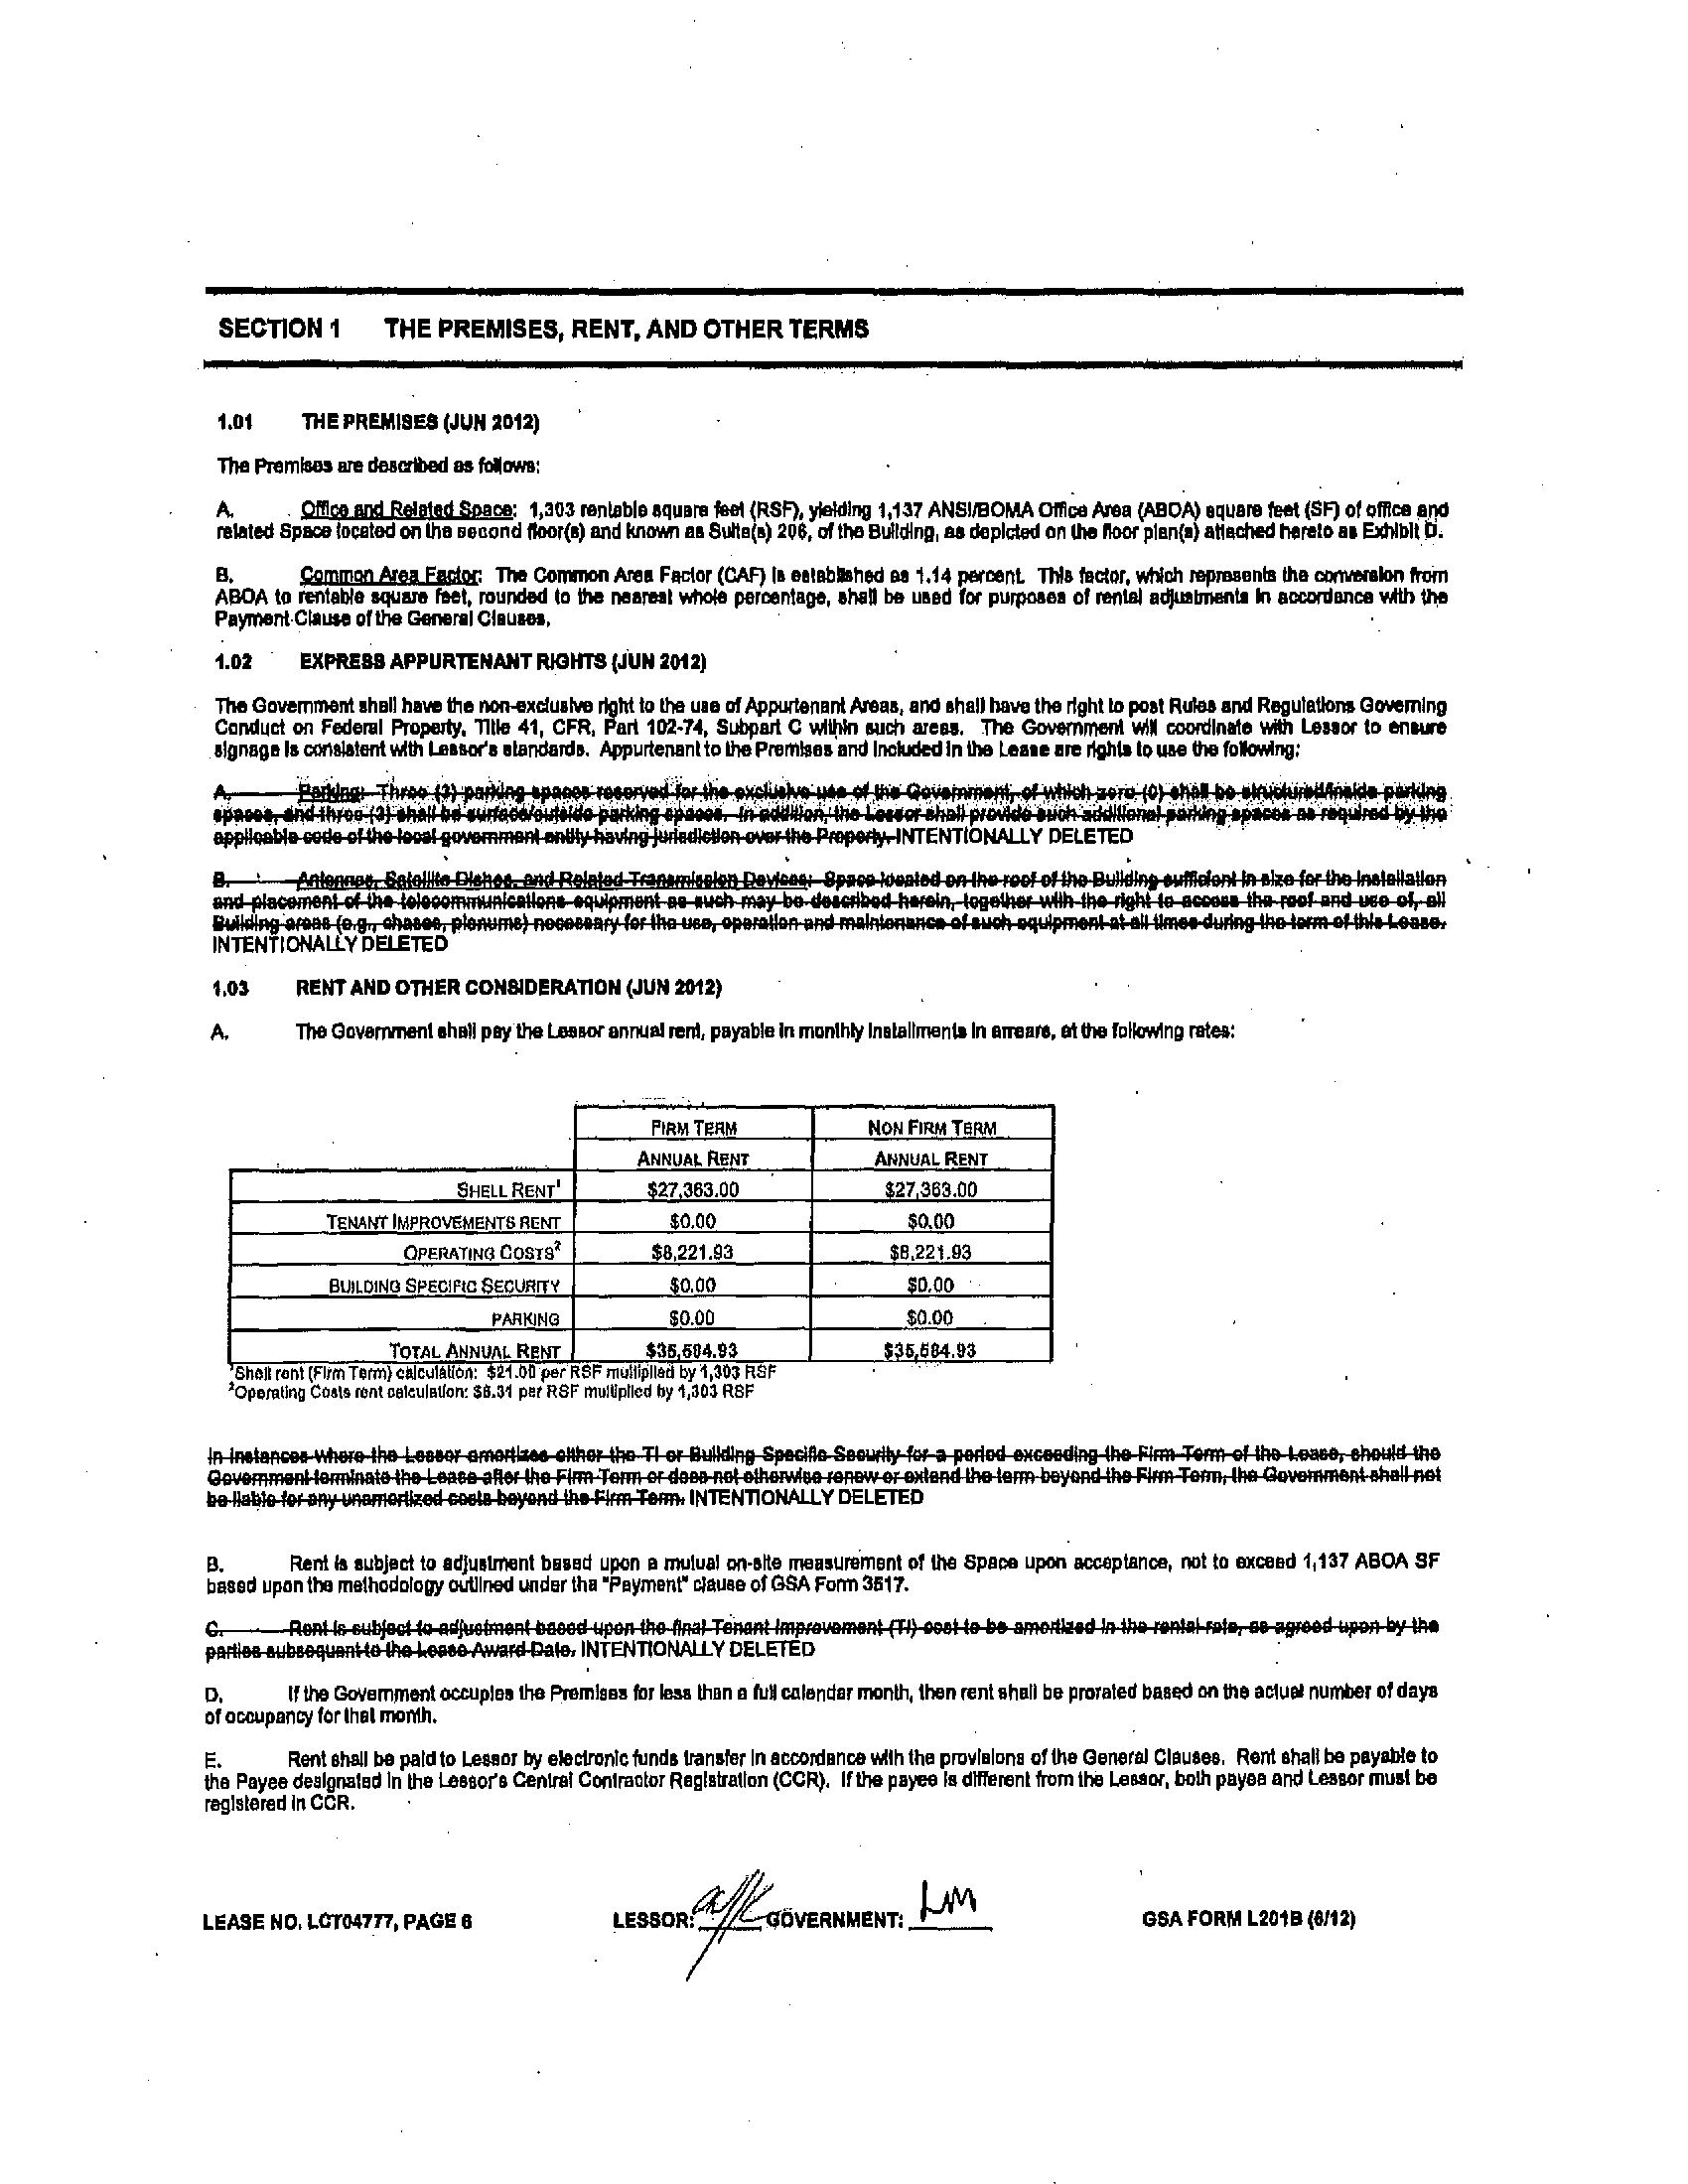handwritten: (677, 1851, 768, 1957), (911, 1865, 995, 1930)
